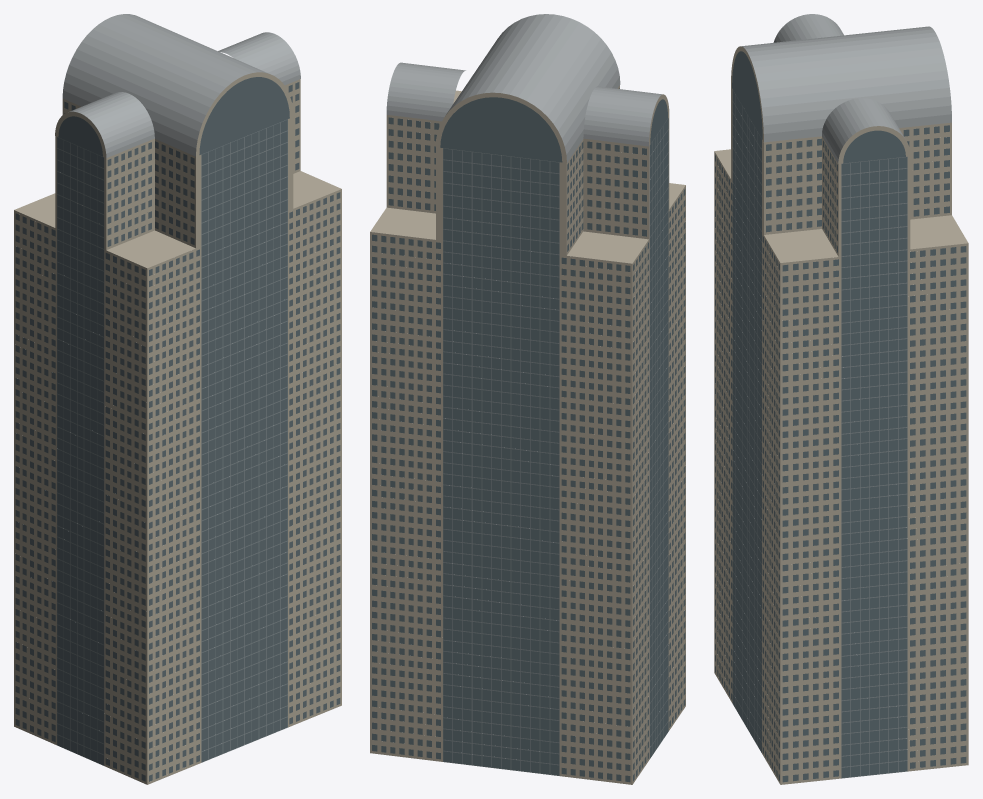
File: comerica-bank-tower-near.glb
3 renders of one model, left to right at view 1: azimuth 30°, elevation 25°; view 2: azimuth 150°, elevation 25°; view 3: azimuth 270°, elevation 25°, orthographic.
Visible parts, largest first — view 1: comerica-bank-tower-0-glass, comerica-bank-tower-0-stone, comerica-bank-tower-0-metal, comerica-bank-tower-0-roof; view 2: comerica-bank-tower-0-glass, comerica-bank-tower-0-stone, comerica-bank-tower-0-metal, comerica-bank-tower-0-roof; view 3: comerica-bank-tower-0-glass, comerica-bank-tower-0-stone, comerica-bank-tower-0-roof, comerica-bank-tower-0-metal.
Part boxes in pixels (bbox=[...]): comerica-bank-tower-0-glass: bbox=[15, 77, 340, 781]; comerica-bank-tower-0-stone: bbox=[14, 72, 341, 784]; comerica-bank-tower-0-metal: bbox=[57, 119, 287, 765]; comerica-bank-tower-0-roof: bbox=[62, 14, 300, 157]; comerica-bank-tower-0-glass: bbox=[372, 88, 685, 782]; comerica-bank-tower-0-stone: bbox=[370, 85, 685, 784]; comerica-bank-tower-0-metal: bbox=[443, 119, 668, 775]; comerica-bank-tower-0-roof: bbox=[386, 14, 662, 162]; comerica-bank-tower-0-glass: bbox=[715, 51, 966, 782]; comerica-bank-tower-0-stone: bbox=[714, 46, 968, 784]; comerica-bank-tower-0-roof: bbox=[742, 14, 951, 163]; comerica-bank-tower-0-metal: bbox=[732, 90, 907, 778].
Size of the model in its own units: 100 by 240 by 81.69.
